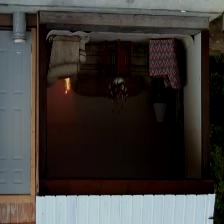fire: (58, 74, 76, 101)
